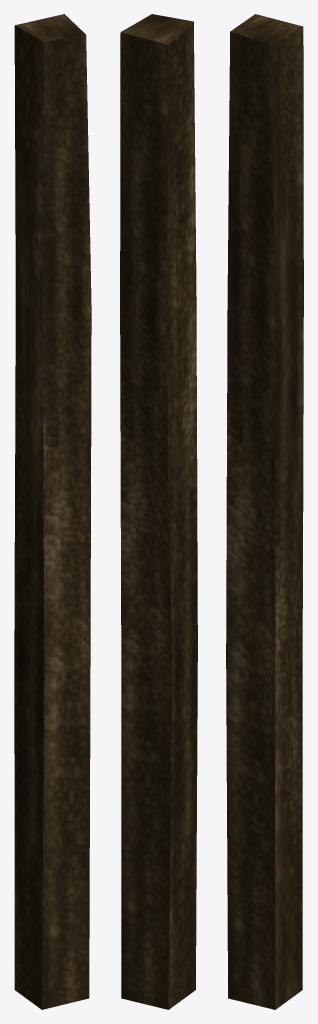
File: fence_stick.obj
3 renders of one model, left to right at view 1: azimuth 30°, elevation 25°; view 2: azimuth 150°, elevation 25°; view 3: azimuth 330°, elevation 25°, orthographic.
Visible parts, largest first — view 1: Cube.001; view 2: Cube.001; view 3: Cube.001.
Boxes of the visible parts, x1=… form: Cube.001: x1=14, y1=14, x2=91, y2=1009; Cube.001: x1=120, y1=14, x2=197, y2=1009; Cube.001: x1=226, y1=14, x2=303, y2=1009.
Size of the model in its own units: 0.251 by 4.55 by 0.2616.
1 material, 1 textured.
